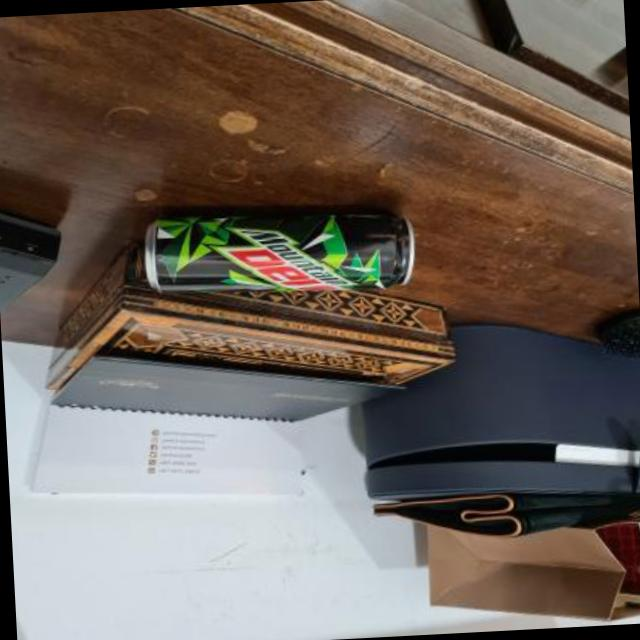cardboard paper: (32, 406, 304, 495)
metal: (146, 215, 416, 293)
